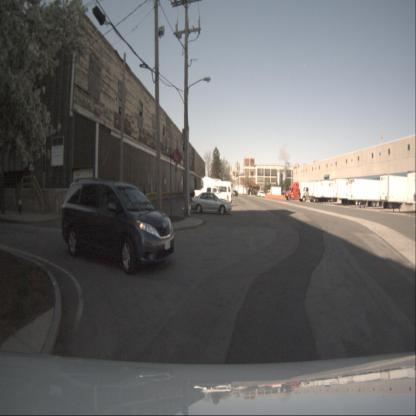barrier: (264, 193, 270, 199), (270, 194, 276, 199), (276, 194, 282, 199), (281, 194, 287, 199)
